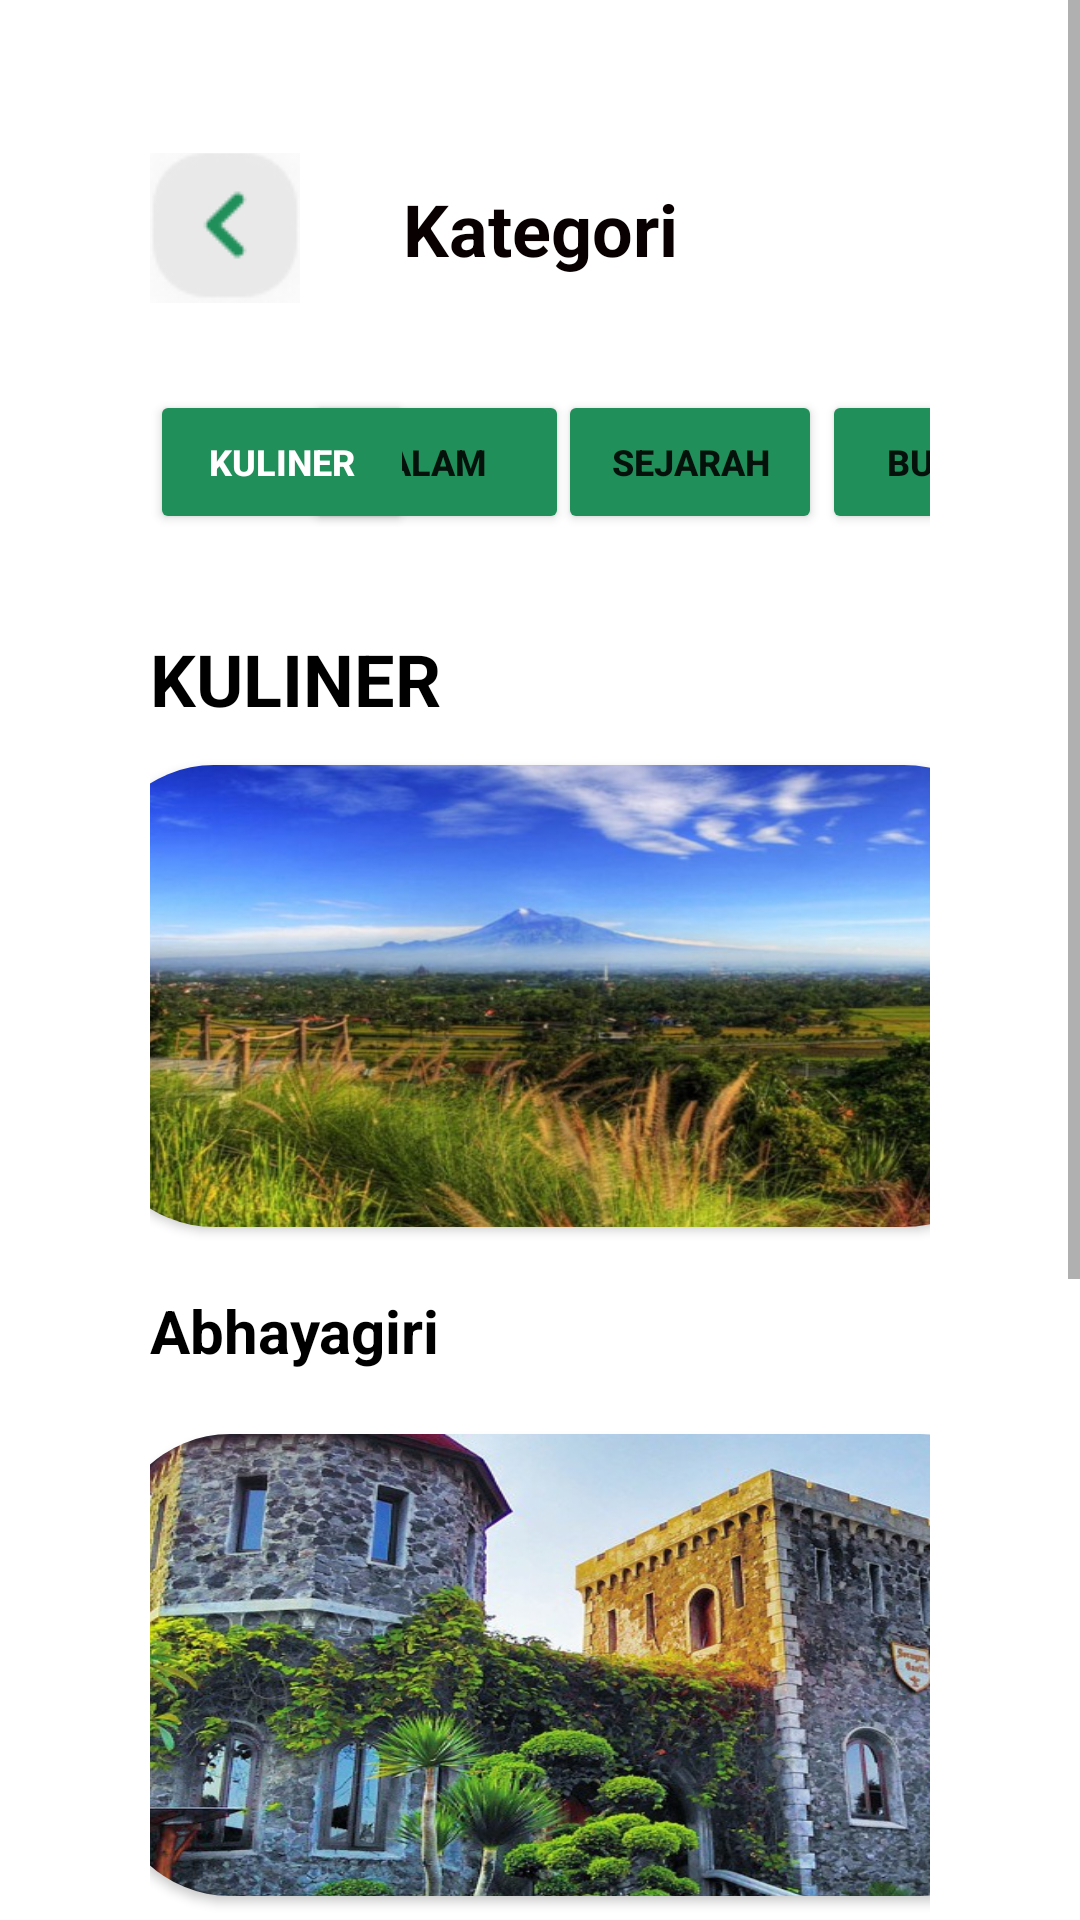

Icons on this 1080 x 1920 Android screen, each with the point to tap as (x,y):
back: (225,225)
